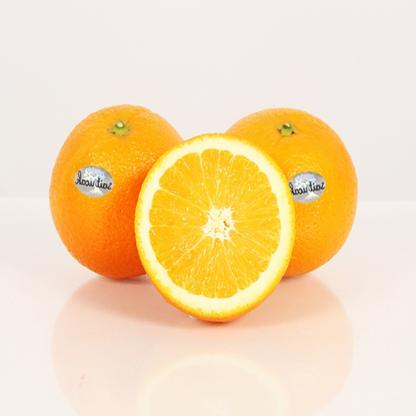orange: (42, 90, 201, 283), (214, 97, 362, 295)
